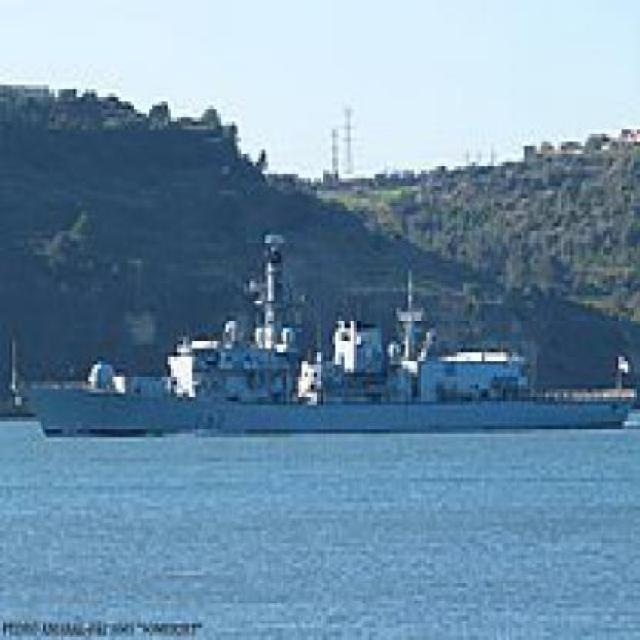warship2: (13, 200, 638, 467)
